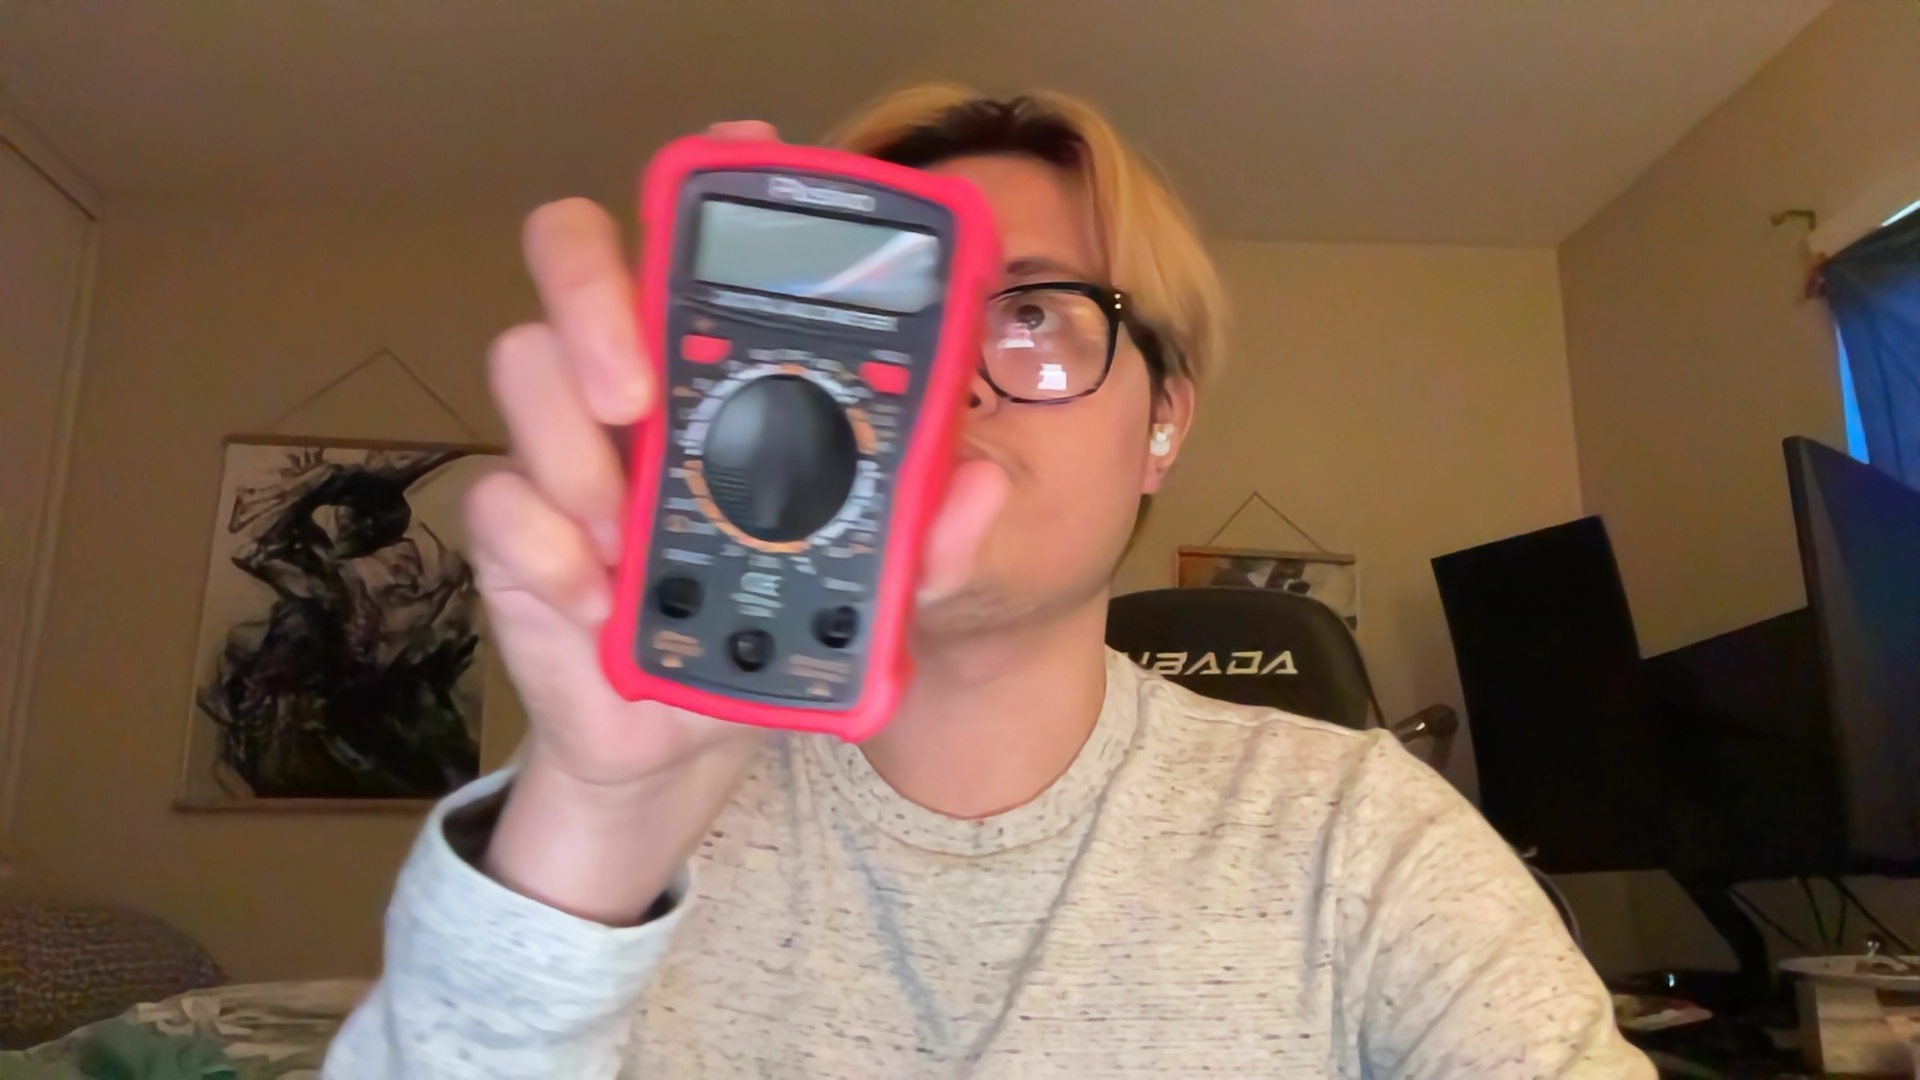multimeter: (582, 115, 986, 742)
